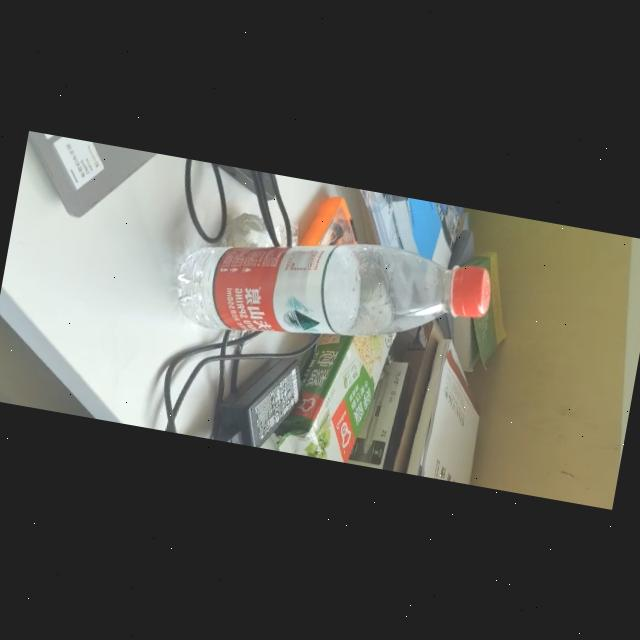trash: (165, 212, 498, 387)
